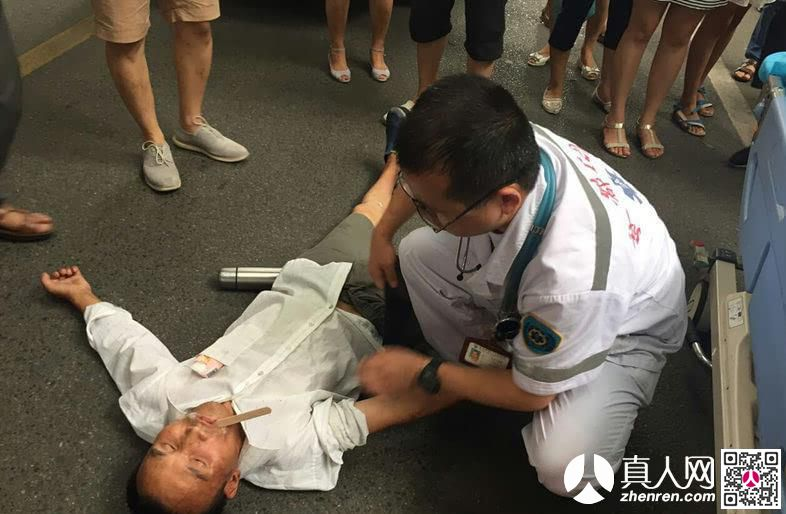10+: (1, 1, 786, 514)
down: (38, 95, 502, 511)
